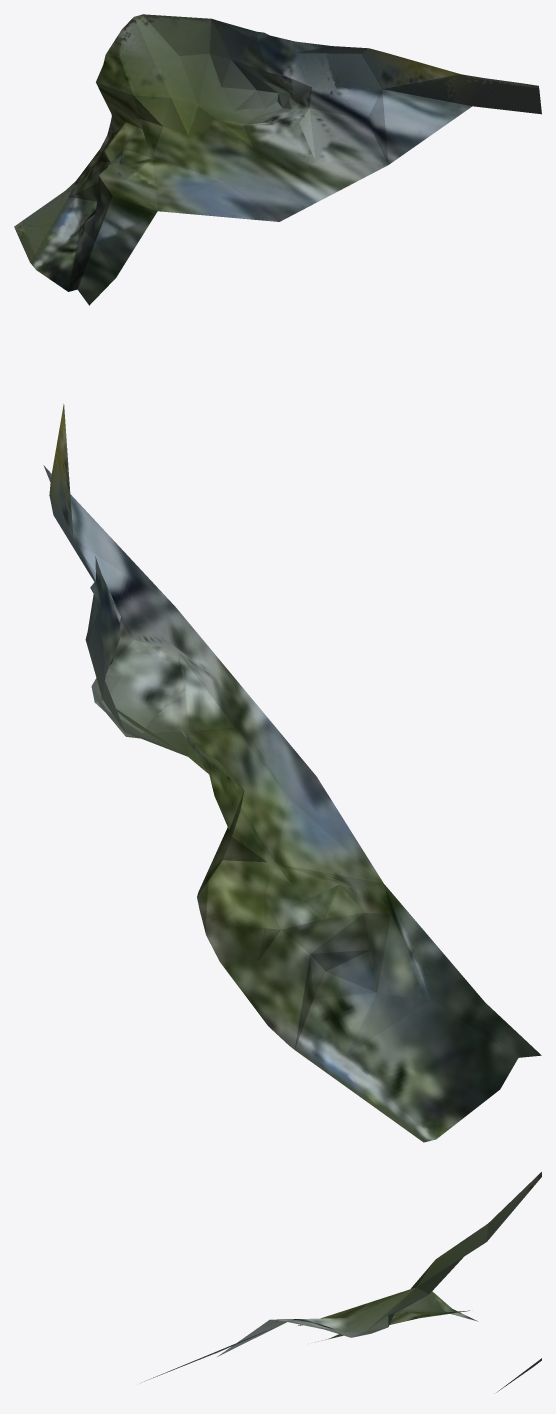
3 renders of one model, top to bottom at view 1: azimuth 30°, elevation 25°; view 2: azimuth 150°, elevation 25°; view 3: azimuth 270°, elevation 25°, orthographic. The views are drawn at different scales.
Bounding box in the file's own units: 2.59 × 1.44 × 2.15.
1 material, 1 textured.
